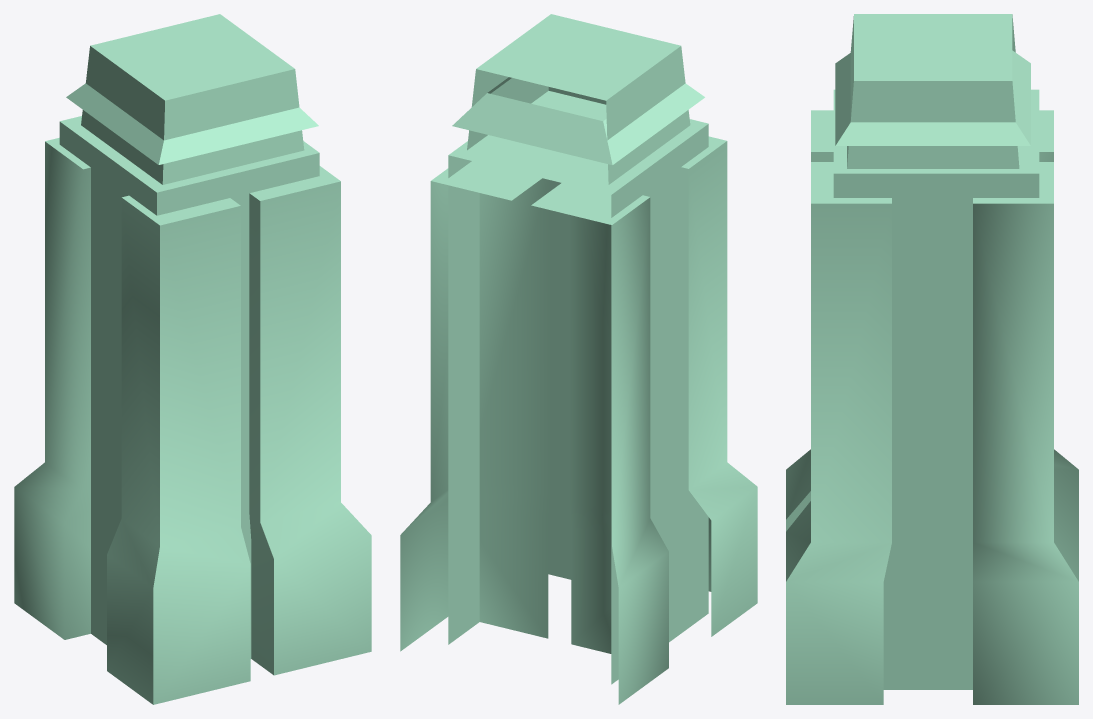
The picture shows the model from 3 angles, left to right: view 1: azimuth 30°, elevation 25°; view 2: azimuth 150°, elevation 25°; view 3: azimuth 270°, elevation 25°; orthographic projection. The views are drawn at different scales.
Parts seen in each view (by area): view 1: Object75; view 2: Object75; view 3: Object75.
Part boxes in pixels (<box>): Object75: <box>14,14,371,704</box>; Object75: <box>400,14,757,704</box>; Object75: <box>786,14,1078,704</box>.
Size of the model in its own units: 107 by 266 by 118.
